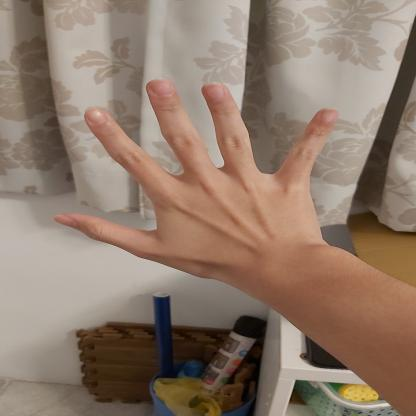bare_hand: (42, 72, 351, 290)
